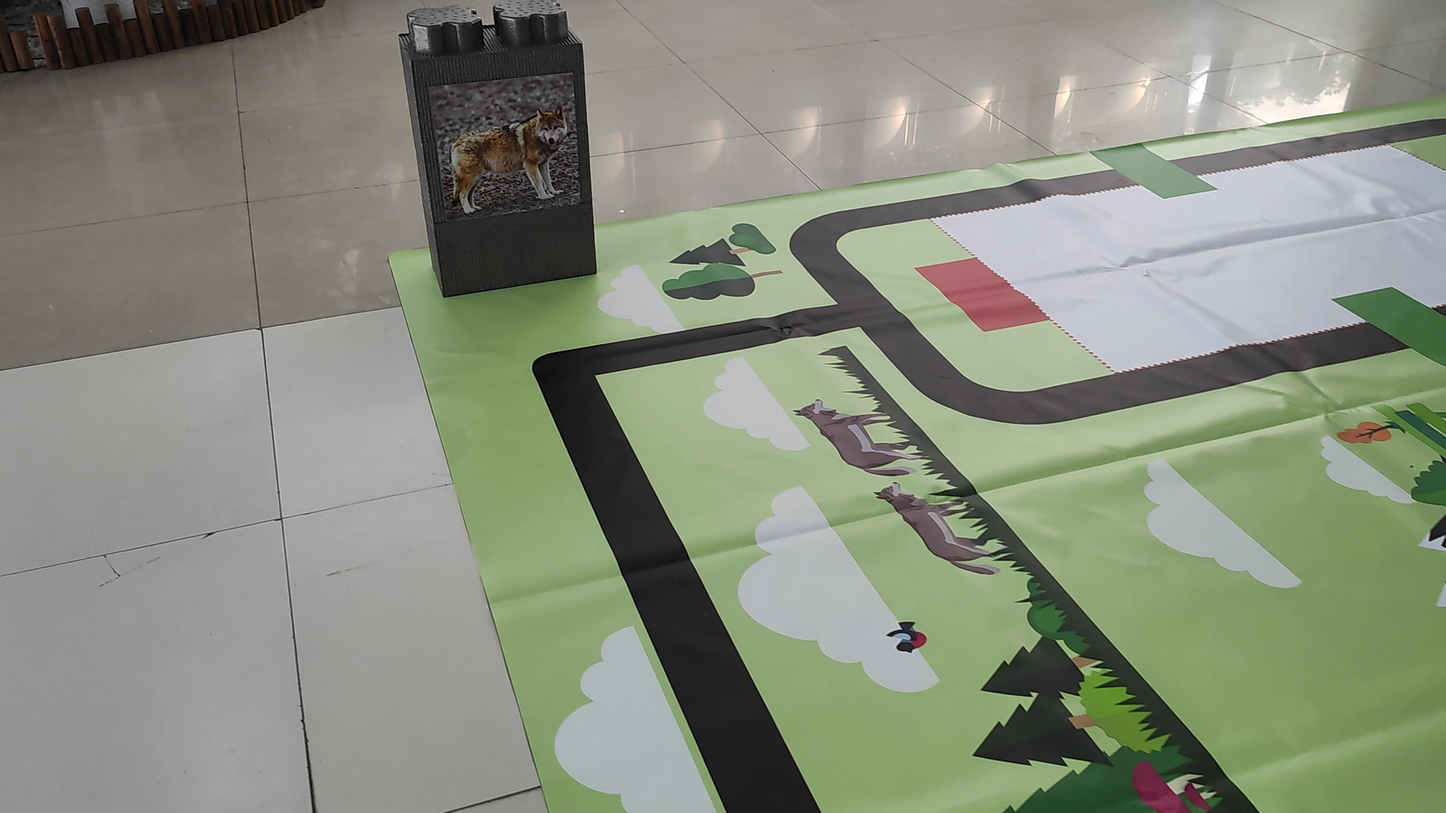wolf: (436, 85, 597, 245)
